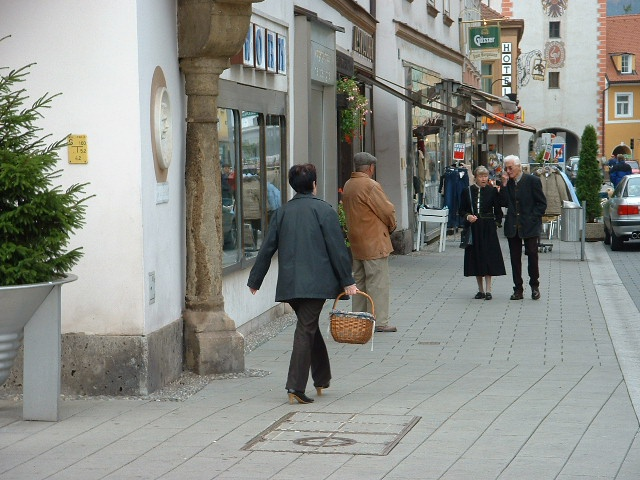person: (245, 162, 357, 404), (334, 145, 400, 334), (498, 151, 548, 302), (457, 158, 504, 304)
